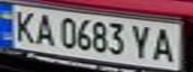0: (54, 15, 78, 49)
3: (106, 20, 130, 57)
6: (75, 17, 93, 52)
8: (90, 19, 109, 54)
A: (148, 25, 181, 63), (30, 11, 57, 47)
K: (9, 7, 39, 44)
Y: (127, 21, 157, 61)
